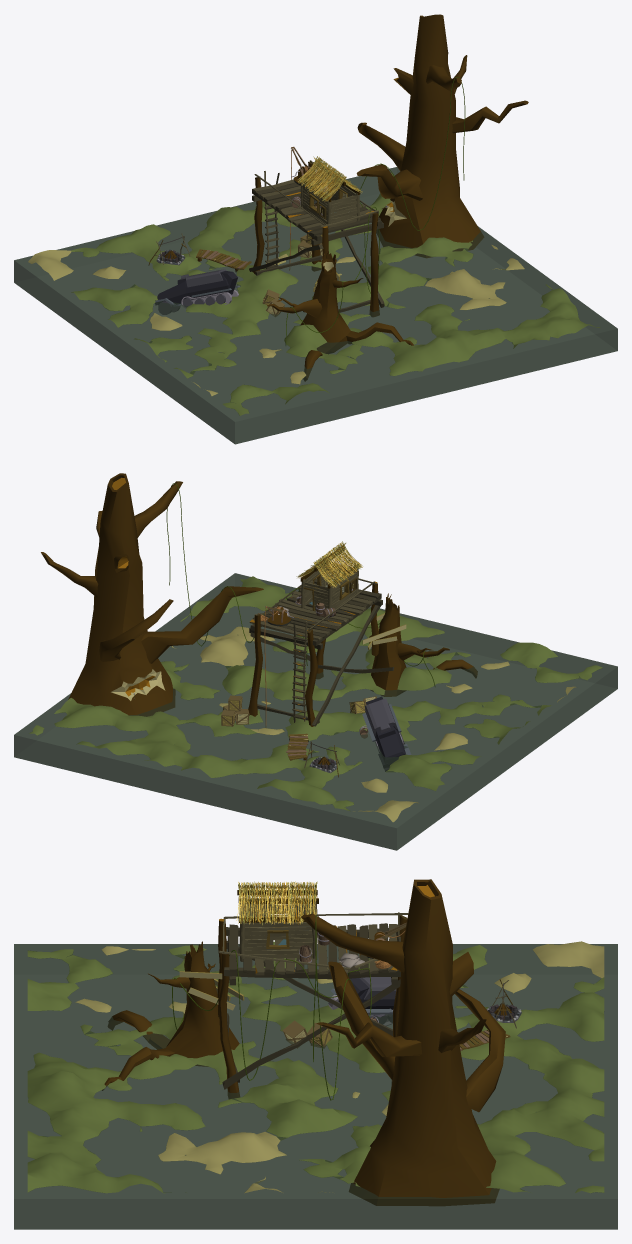
The model's file is saiken(6).glb.
3 views of the same model, one above another, from view 1: azimuth 30°, elevation 25°; view 2: azimuth 150°, elevation 25°; view 3: azimuth 270°, elevation 25° (orthographic). The views are drawn at different scales.
Parts seen in each view (by area): view 1: swamp, bumps, tree, Cube.005, Cube.003, pepelaz, Cube, liana; view 2: swamp, bumps, tree, Cube.003, Cube.005, pepelaz, Cube, liana; view 3: swamp, bumps, tree, Cube.005, Cube.003, Cube, pepelaz, liana, Cube.002.
Boxes of the visible parts, x1=… form: swamp: x1=14, y1=167, x2=617, y2=444; bumps: x1=28, y1=173, x2=600, y2=415; tree: x1=356, y1=14, x2=528, y2=257; Cube.005: x1=252, y1=161, x2=413, y2=381; Cube.003: x1=249, y1=160, x2=384, y2=312; pepelaz: x1=155, y1=269, x2=240, y2=314; Cube: x1=300, y1=176, x2=360, y2=228; liana: x1=285, y1=77, x2=465, y2=345; swamp: x1=14, y1=573, x2=617, y2=850; bumps: x1=29, y1=576, x2=602, y2=822; tree: x1=41, y1=473, x2=263, y2=716; Cube.003: x1=249, y1=578, x2=394, y2=726; Cube.005: x1=248, y1=581, x2=477, y2=726; pepelaz: x1=362, y1=696, x2=411, y2=771; Cube: x1=301, y1=562, x2=358, y2=610; liana: x1=166, y1=483, x2=435, y2=686; swamp: x1=14, y1=944, x2=617, y2=1229; bumps: x1=27, y1=941, x2=604, y2=1193; tree: x1=301, y1=879, x2=505, y2=1205; Cube.005: x1=102, y1=915, x2=407, y2=1099; Cube.003: x1=219, y1=912, x2=408, y2=1089; Cube: x1=239, y1=902, x2=317, y2=961; pepelaz: x1=328, y1=977, x2=396, y2=1025; liana: x1=172, y1=915, x2=371, y2=1100; Cube.002: x1=237, y1=890, x2=318, y2=922.
Bounding box in the file's own units: 3788 × 2123 × 3572.
